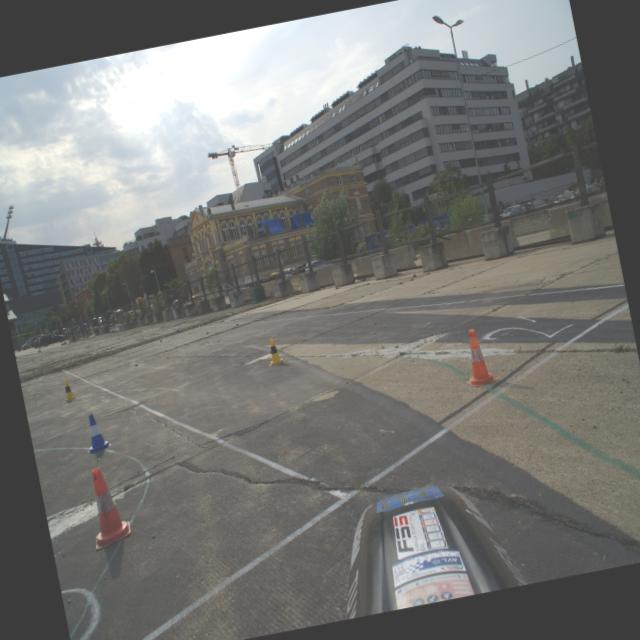blue_cone: (81, 411, 113, 454)
orange_cone: (81, 464, 134, 550), (456, 326, 499, 388)
yellow_cone: (264, 336, 286, 366), (60, 378, 78, 402)
